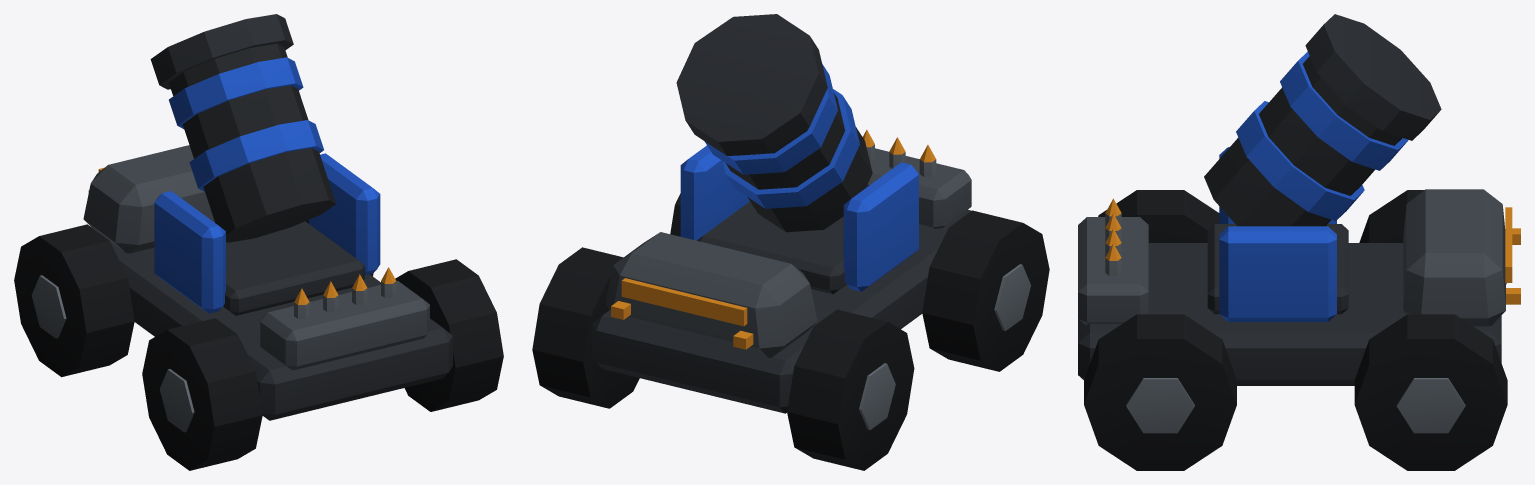
File: mortar.glb
The picture shows the model from 3 angles, left to right: view 1: azimuth 30°, elevation 25°; view 2: azimuth 150°, elevation 25°; view 3: azimuth 270°, elevation 25°; orthographic projection. The views are drawn at different scales.
Visible parts, largest first — view 1: hull, turret; view 2: hull, turret; view 3: hull, turret.
Part boxes in pixels (bbox=[...]): hull: bbox=[14, 145, 503, 470]; turret: bbox=[150, 14, 380, 315]; hull: bbox=[532, 129, 1049, 470]; turret: bbox=[676, 14, 918, 294]; hull: bbox=[1078, 189, 1520, 470]; turret: bbox=[1204, 14, 1441, 321].
Size of the model in its own units: 0.61 by 0.6974 by 0.7525.
